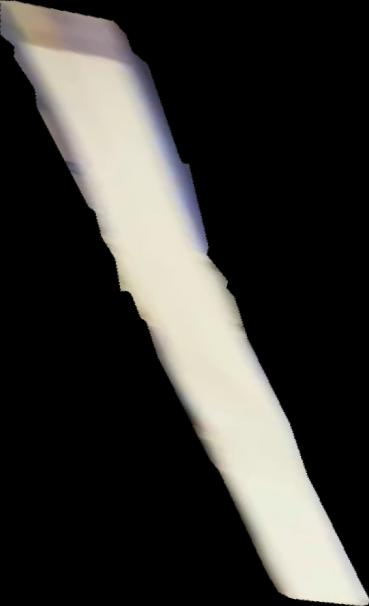backward: (1, 1, 369, 606)
